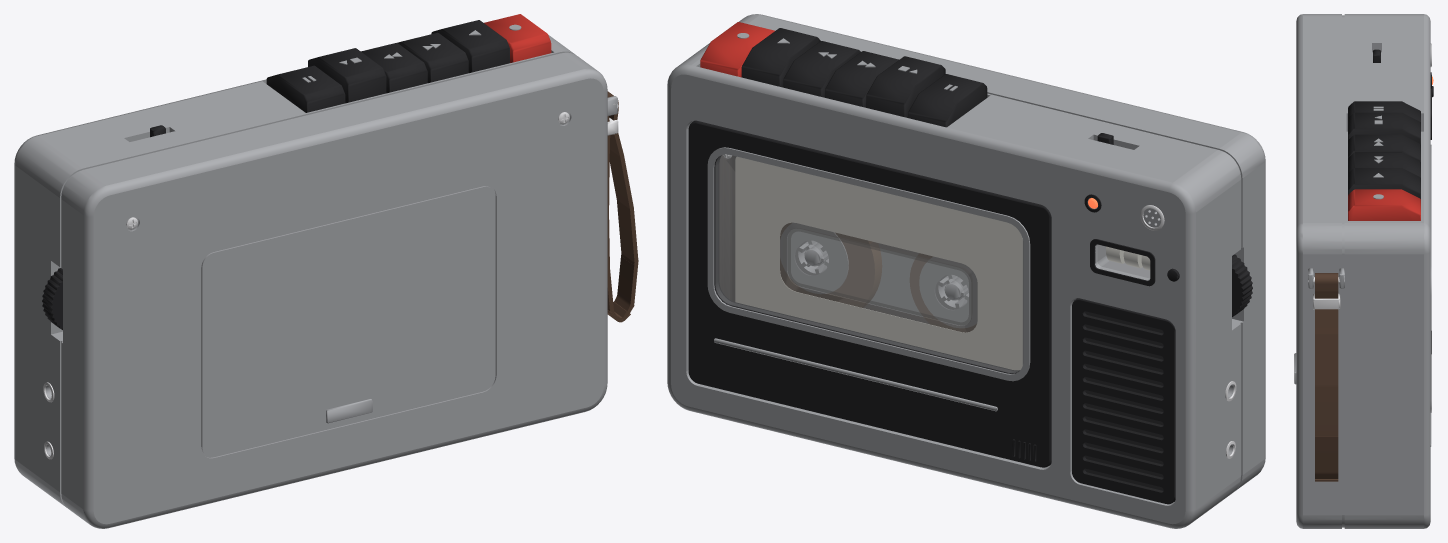
The model's file is Inspect_TapeRecorder.fbx.
3 views of the same model, side by side, from view 1: azimuth 30°, elevation 25°; view 2: azimuth 150°, elevation 25°; view 3: azimuth 270°, elevation 25° (orthographic). The views are drawn at different scales.
Visible parts, largest first — view 1: Body; view 2: Body, ReelL, ReelR; view 3: Body.
Boxes of the visible parts, <box> form: Body: <box>14,14,638,528</box>; Body: <box>667,14,1265,528</box>; ReelL: <box>780,223,881,307</box>; ReelR: <box>910,253,977,332</box>; Body: <box>1294,14,1433,528</box>.
Bounding box in the file's own units: 0.1751 × 0.1076 × 0.0415.
